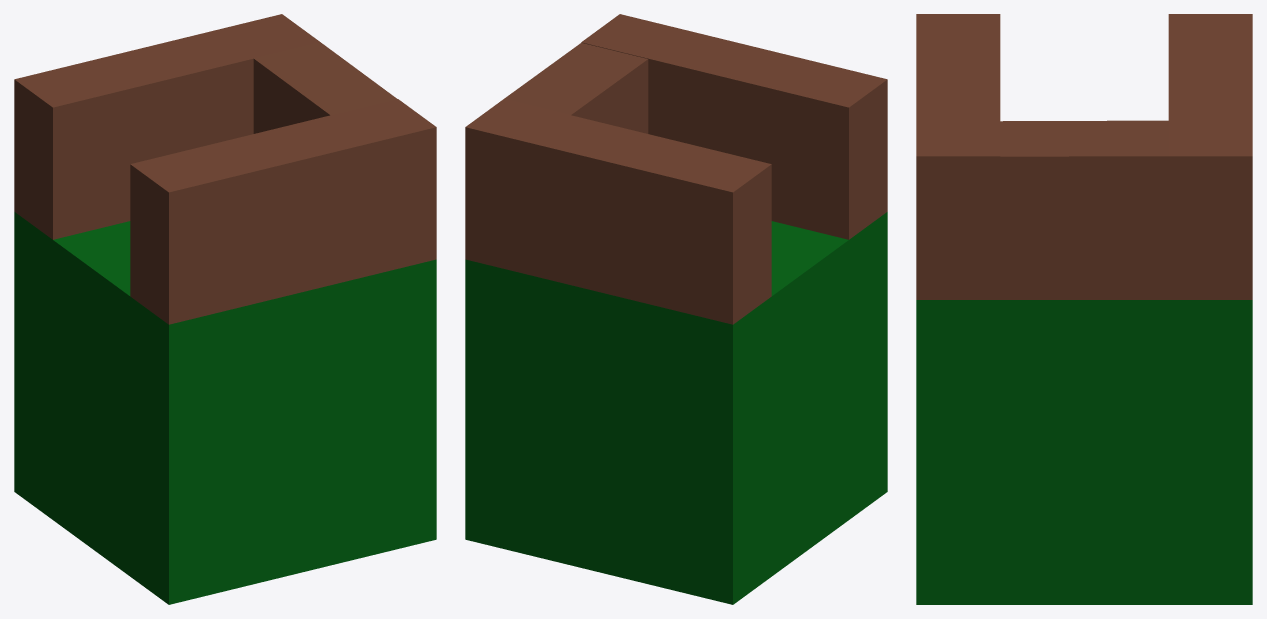
Rendered from TripleEdge.fbx.
The picture shows the model from 3 angles, left to right: view 1: azimuth 30°, elevation 25°; view 2: azimuth 150°, elevation 25°; view 3: azimuth 270°, elevation 25°; orthographic projection. The views are drawn at different scales.
Visible parts, largest first — view 1: Cube.001; view 2: Cube.001; view 3: Cube.001.
Boxes of the visible parts, box(x1,y1,x2,y2) form: Cube.001: box(14, 14, 436, 604); Cube.001: box(465, 14, 887, 604); Cube.001: box(916, 14, 1252, 604).
Bounding box in the file's own units: 200 × 294 × 200.
